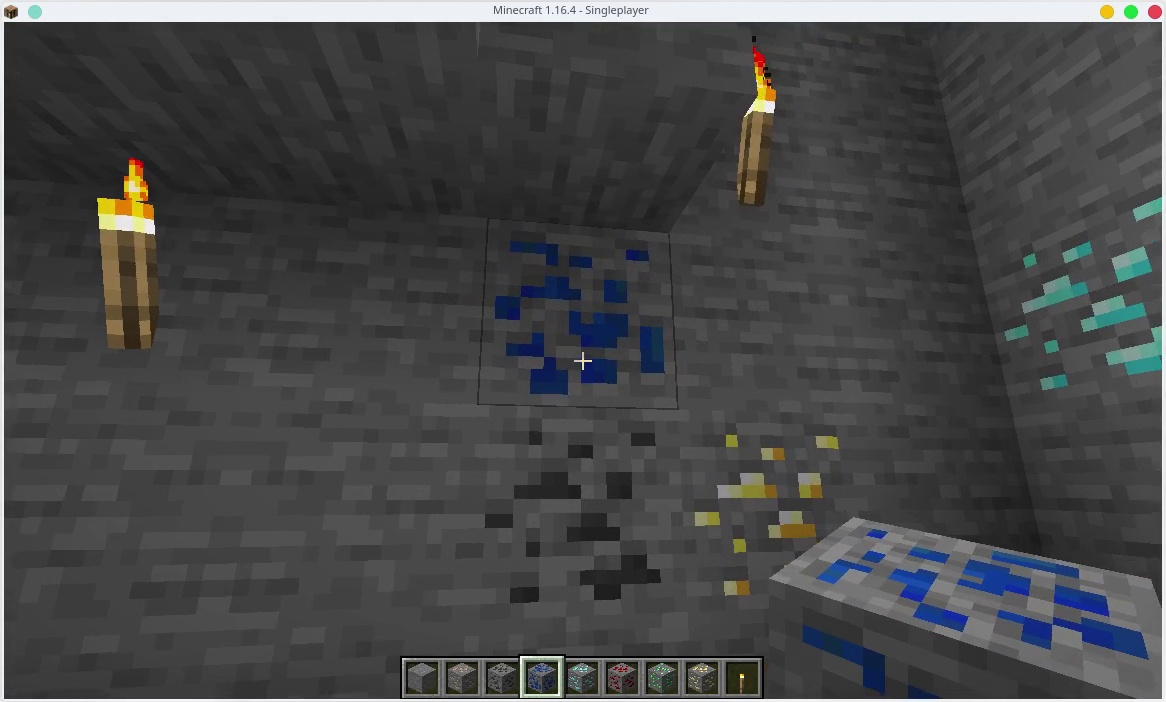gold: (689, 425, 842, 546), (687, 662, 718, 694)
